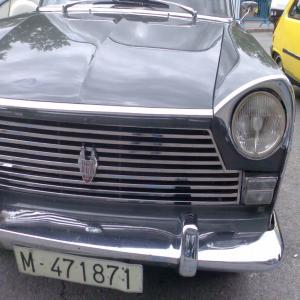Vehicle-registration-plate: (43, 252, 143, 292)
